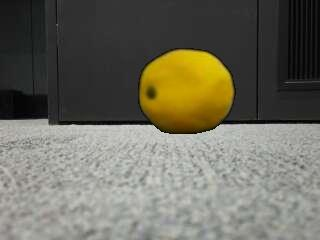lemon: (140, 50, 234, 134)
